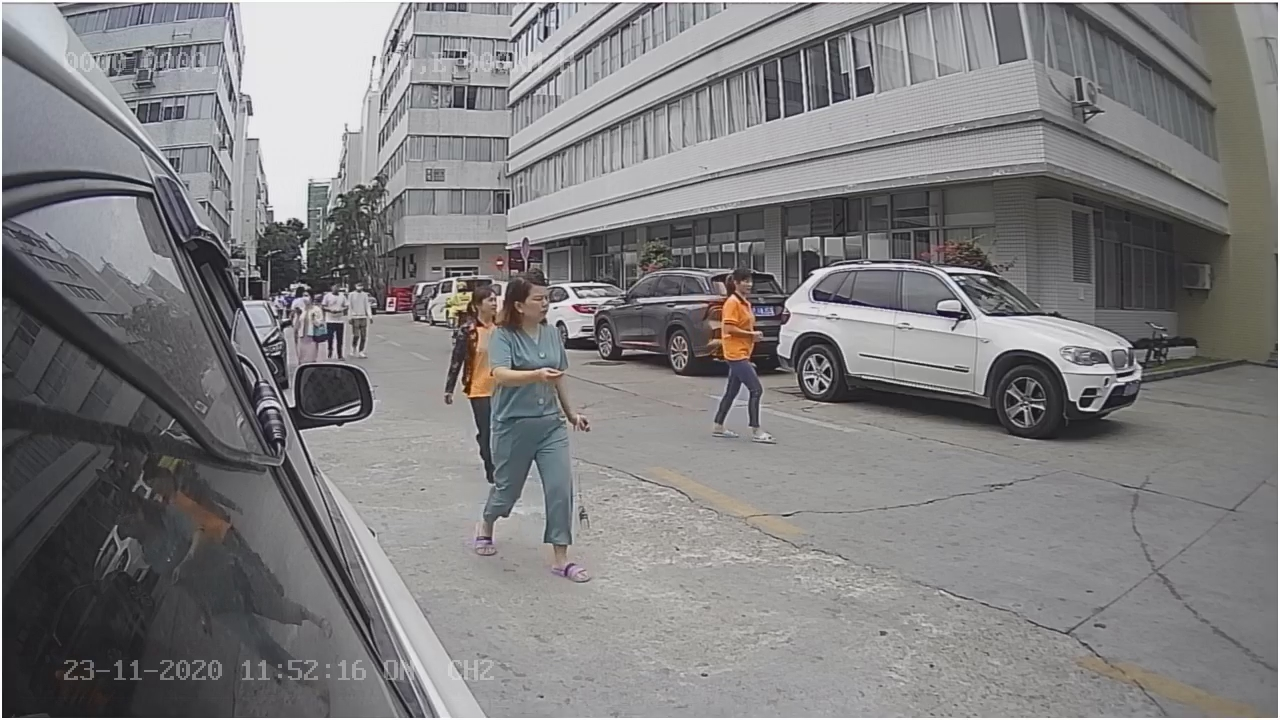person: (496, 285, 589, 556), (718, 261, 776, 448)
